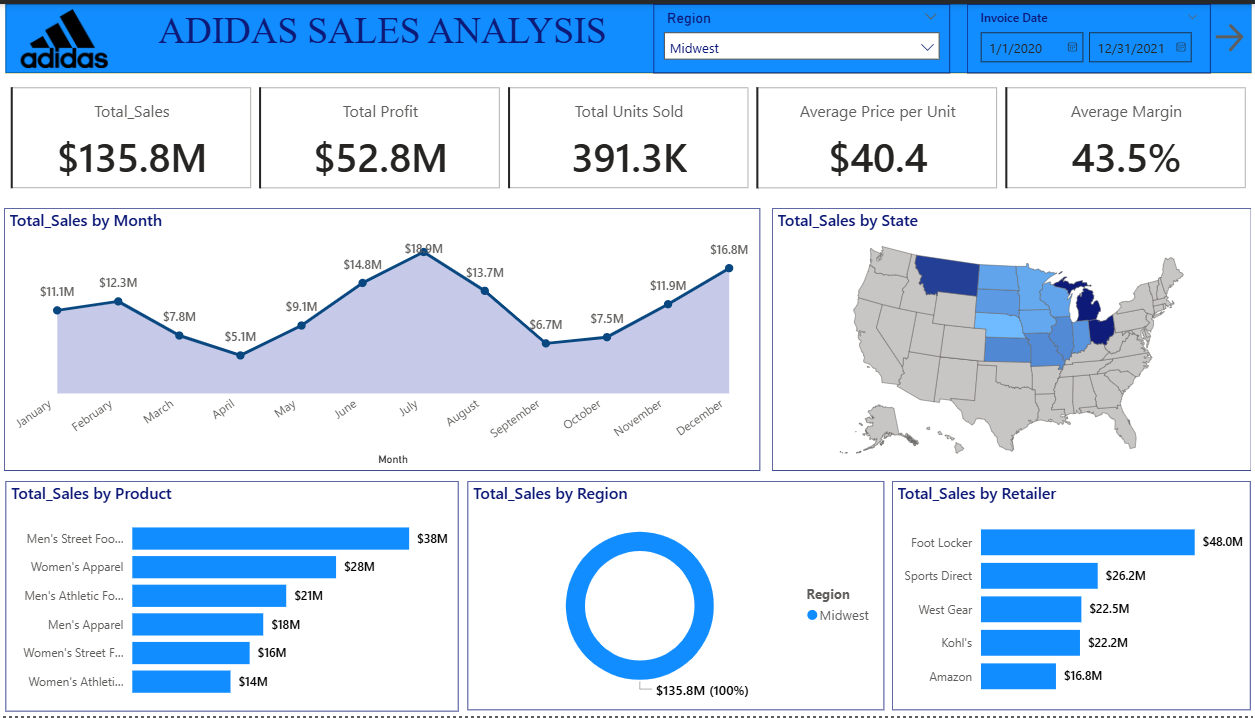

The dashboard page shown, as its layout file describes it:
{"tool":"powerbi","page":{"name":"Total Sales","canvas":[1280,720],"ordinal":0},"visuals":[{"type":"shape","box":[10,0,1258.7,69.7],"z":0},{"type":"cardVisual","fields":{"Data":["Table1.Total_Sales","Table1.Total Profit","Table1.Total Units Sold","Table1.Average Price per Unit","Table1.Average Margin"]},"box":[11,78.3,1258.3,112.5],"z":1000},{"type":"areaChart","fields":{"Category":["Table1.Invoice Date.Variation.Date Hierarchy.Month"],"Y":["Table1.Total_Sales"]},"box":[9.8,205.4,763,265.4],"z":2000},{"type":"shapeMap","fields":{"Category":["Table1.State"],"Value":["Table1.Total_Sales"]},"box":[783.8,205.4,484.2,265.4],"z":3000},{"type":"donutChart","fields":{"Category":["Table1.Region"],"Y":["Table1.Total_Sales"]},"box":[476.9,481.8,420.7,231.1],"z":4000},{"type":"clusteredBarChart","fields":{"Category":["Table1.Product"],"Y":["Table1.Total_Sales"]},"box":[11,481.8,457.3,232.3],"z":5000},{"type":"clusteredBarChart","fields":{"Category":["Table1.Retailer"],"Y":["Table1.Total_Sales"]},"box":[906.1,481.8,362,231.1],"z":6000},{"type":"slicer","fields":{"Values":["Table1.Region"]},"box":[665.2,0,299.6,69.7],"z":7000},{"type":"slicer","fields":{"Values":["Table1.Invoice Date"]},"box":[980.7,0,245.8,69.7],"z":8000},{"type":"textbox","box":[145.5,0,491.6,69.7],"z":9000},{"type":"image","box":[11,0,118.6,69.7],"z":10000},{"type":"actionButton","box":[1226.5,15.9,41.6,37.9],"z":11000}]}

Visuals, with their boxes in screenshot pixels (x1, y1, x2, y2), scaled from the page's 1280x720 canvas onto the 1255x718 screenshot:
shape: bbox=(10, 0, 1244, 70)
cardVisual - Table1.Total_Sales x Table1.Total Profit: bbox=(11, 78, 1245, 190)
areaChart - Table1.Invoice Date.Variation.Date Hierarchy.Month x Table1.Total_Sales: bbox=(10, 205, 758, 469)
shapeMap - Table1.State x Table1.Total_Sales: bbox=(768, 205, 1243, 469)
donutChart - Table1.Region x Table1.Total_Sales: bbox=(468, 480, 880, 711)
clusteredBarChart - Table1.Product x Table1.Total_Sales: bbox=(11, 480, 459, 712)
clusteredBarChart - Table1.Retailer x Table1.Total_Sales: bbox=(888, 480, 1243, 711)
slicer - Table1.Region: bbox=(652, 0, 946, 70)
slicer - Table1.Invoice Date: bbox=(962, 0, 1203, 70)
textbox: bbox=(143, 0, 625, 70)
image: bbox=(11, 0, 127, 70)
actionButton: bbox=(1203, 16, 1243, 54)
